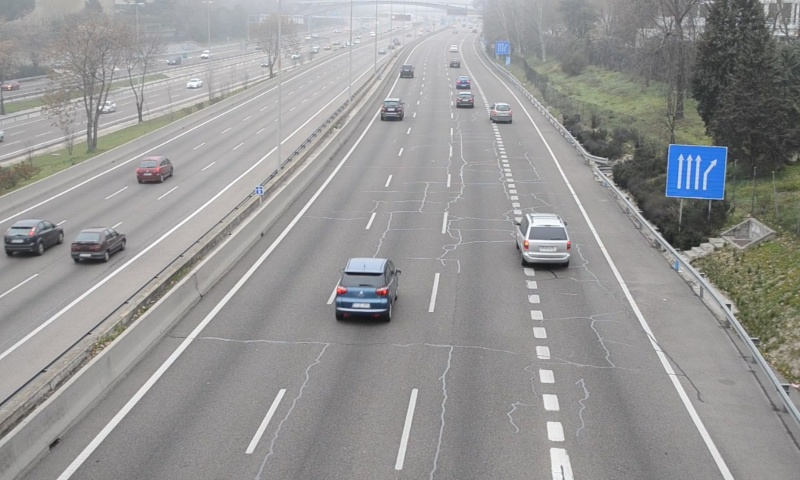car: (336, 258, 398, 317), (518, 214, 569, 264), (380, 98, 404, 122), (490, 102, 513, 124), (456, 90, 474, 109)
